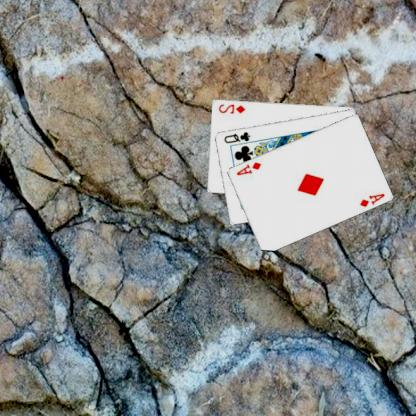2D: (218, 101, 249, 115)
AD: (358, 190, 388, 208), (235, 159, 264, 177)
QC: (223, 128, 254, 145)
